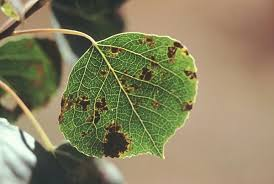Diseased_Leaves: (100, 67, 137, 98), (104, 129, 131, 157), (78, 97, 91, 112), (140, 66, 151, 81), (167, 46, 177, 62), (182, 99, 192, 113), (96, 100, 107, 110), (111, 46, 122, 55), (144, 37, 152, 44)
